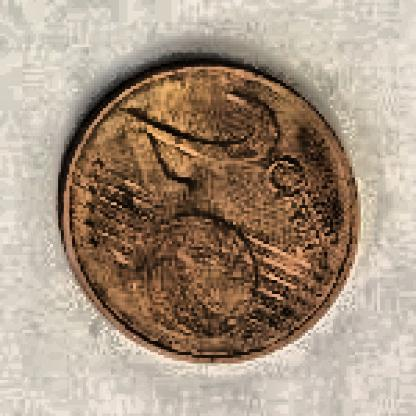coin: (57, 59, 360, 366)
